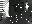person: (2, 1, 10, 18), (21, 3, 28, 12), (12, 5, 17, 16)
